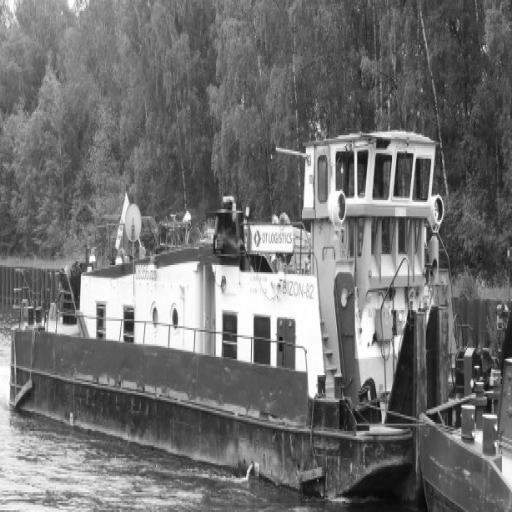tugboat: (7, 116, 512, 512)
